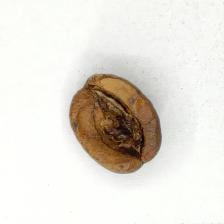NG: (84, 84, 146, 161)
